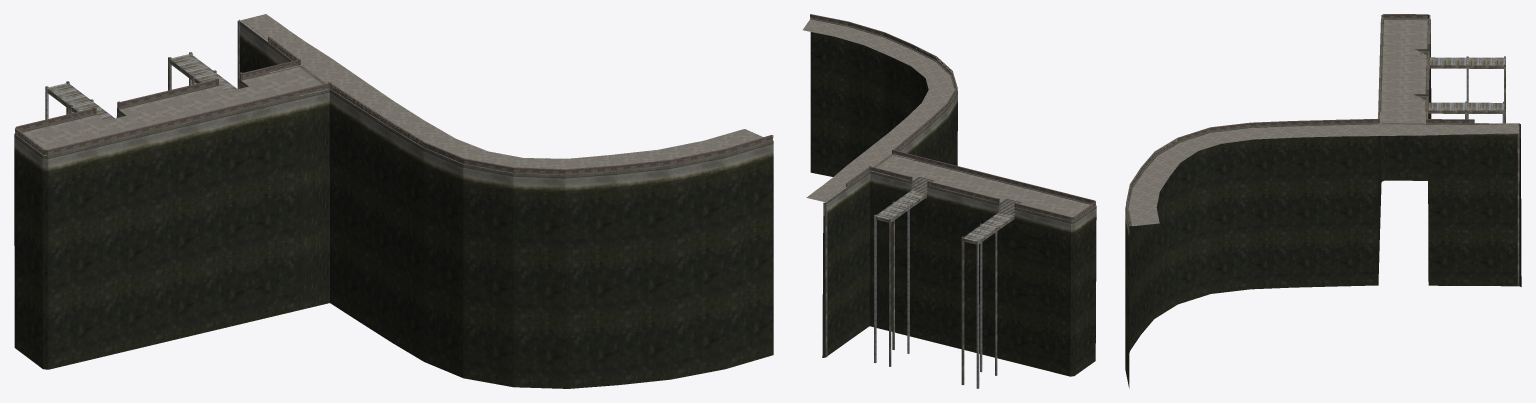
The model's file is sfn_coast04.obj.
The picture shows the model from 3 angles, left to right: view 1: azimuth 30°, elevation 25°; view 2: azimuth 150°, elevation 25°; view 3: azimuth 270°, elevation 25°; orthographic projection. The views are drawn at different scales.
Visible parts, largest first — view 1: sfn_coast04; view 2: sfn_coast04; view 3: sfn_coast04.
Boxes of the visible parts, x1,y1,x2,y2 form: sfn_coast04: (14, 14, 773, 388); sfn_coast04: (803, 14, 1096, 388); sfn_coast04: (1125, 14, 1521, 388).
Bounding box in the file's own units: 131 × 49.06 × 105.
Materials: 6 (6 with a texture image).
